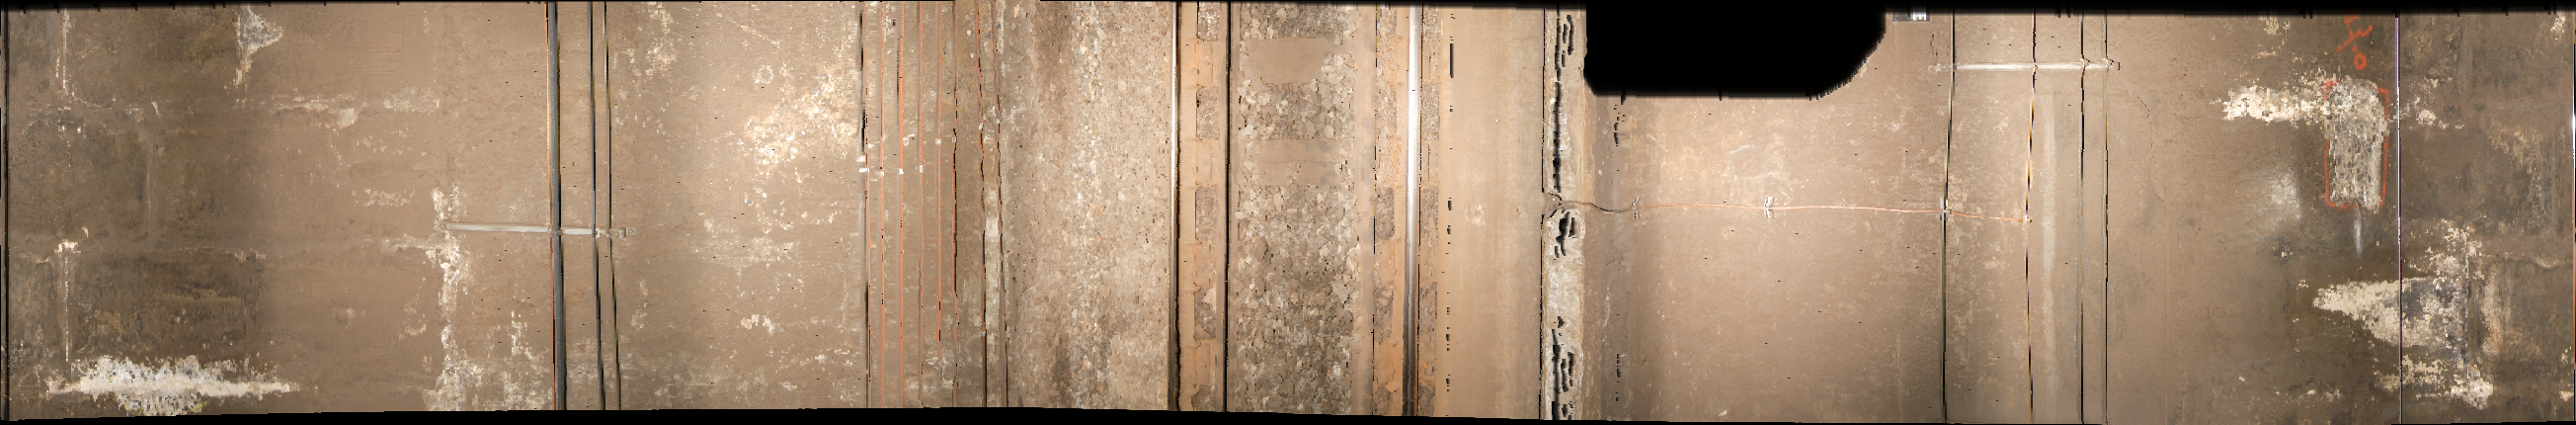pipes: (853, 7, 1012, 425), (529, 2, 623, 425), (2075, 13, 2118, 425), (2021, 16, 2050, 425), (2385, 13, 2413, 425), (1939, 21, 1960, 425)
tracks: (1163, 7, 1562, 425)
